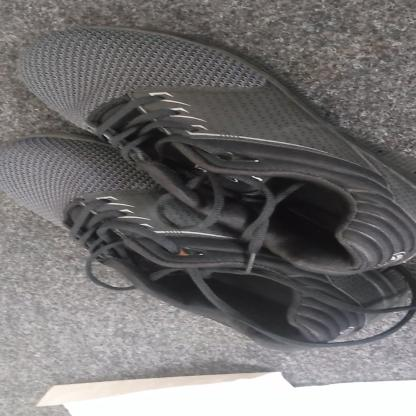safety-shoe: (1, 25, 416, 352)
